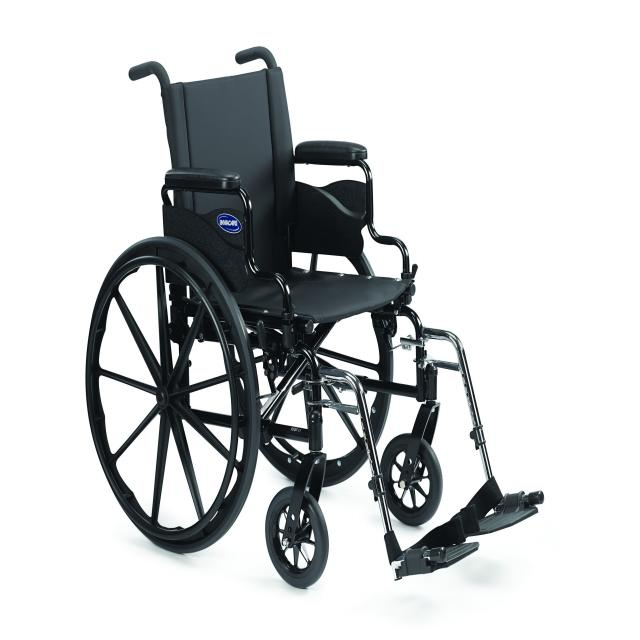wheelchair: (70, 5, 570, 613)
